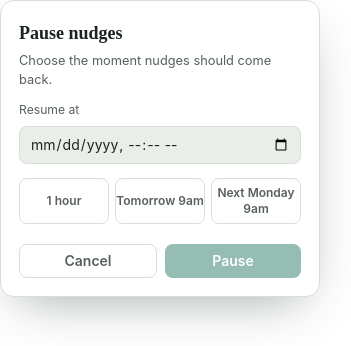
Test: CustomPauseDialog › sets the resume time to next Monday 9am when that preset is clicked
// WHEN the user clicks the "Next Monday 9am" preset
Click the button "Next Monday 9am": (256, 201) left=211, top=178, right=301, bottom=224
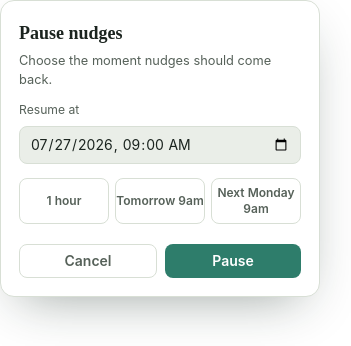
Expected: the field labelled "Resume at" holds "2026-07-27T09:00", left=19, top=126, right=301, bottom=164
